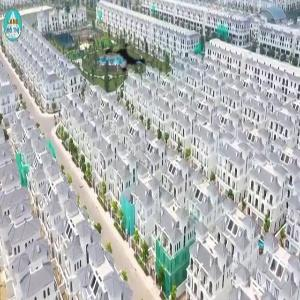drone: (89, 24, 164, 99)
